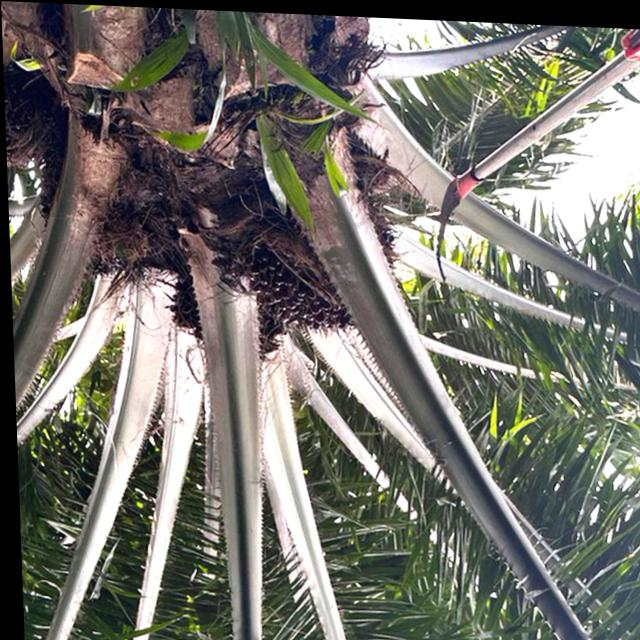unripe: (209, 159, 406, 343)
